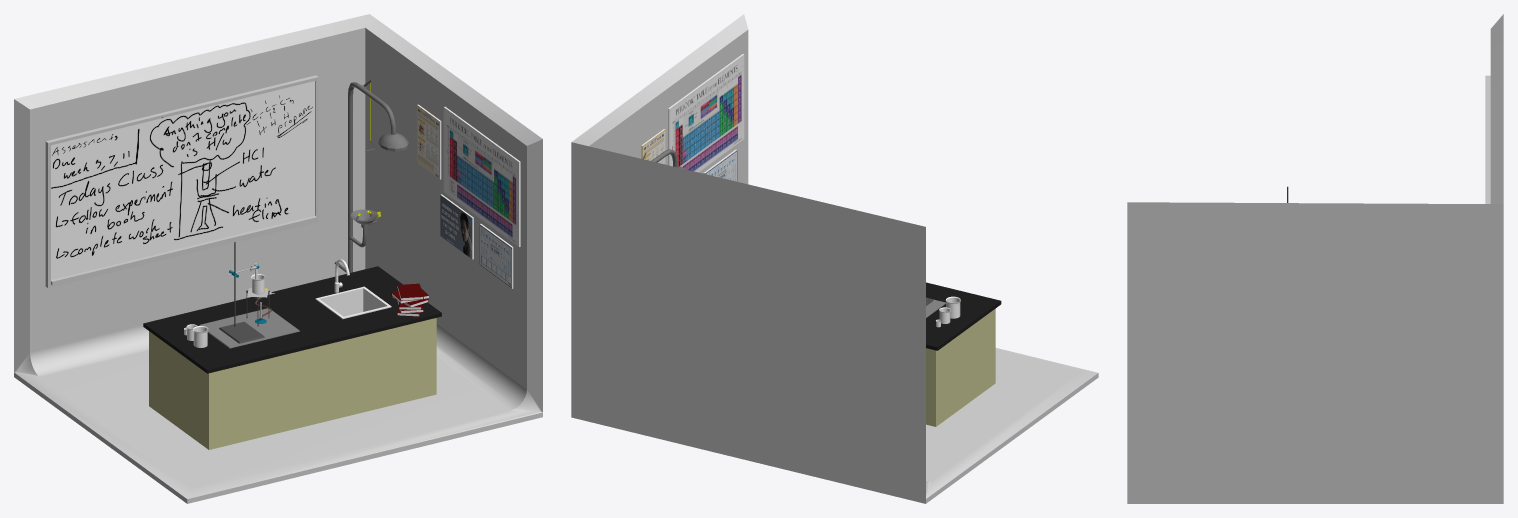
The picture shows the model from 3 angles, left to right: view 1: azimuth 30°, elevation 25°; view 2: azimuth 150°, elevation 25°; view 3: azimuth 270°, elevation 25°; orthographic projection. The views are drawn at different scales.
Parts seen in each view (by area): view 1: Room1, WhiteBoard1, Desk, Poster1, ChemicalShower, HeatMat, Poster4, Poster2, Poster3, RetortStand; view 2: Room1, Desk, Poster1, Poster4; view 3: Room1, WhiteBoard1.
Part boxes in pixels (x1,y1,x2,y2): Room1: (14, 14, 542, 503); WhiteBoard1: (45, 75, 318, 288); Desk: (143, 266, 441, 449); Poster1: (443, 106, 520, 246); ChemicalShower: (334, 80, 408, 272); HeatMat: (199, 308, 299, 348); Poster4: (479, 224, 513, 288); Poster2: (417, 104, 441, 179); Poster3: (440, 194, 473, 259); RetortStand: (219, 242, 264, 343); Room1: (571, 14, 1098, 503); Desk: (926, 282, 1001, 426); Poster1: (668, 54, 744, 172); Poster4: (703, 149, 737, 181); Room1: (1127, 14, 1503, 503); WhiteBoard1: (1485, 75, 1490, 203).
Bounding box in the file's own units: 378 × 283 × 319.
